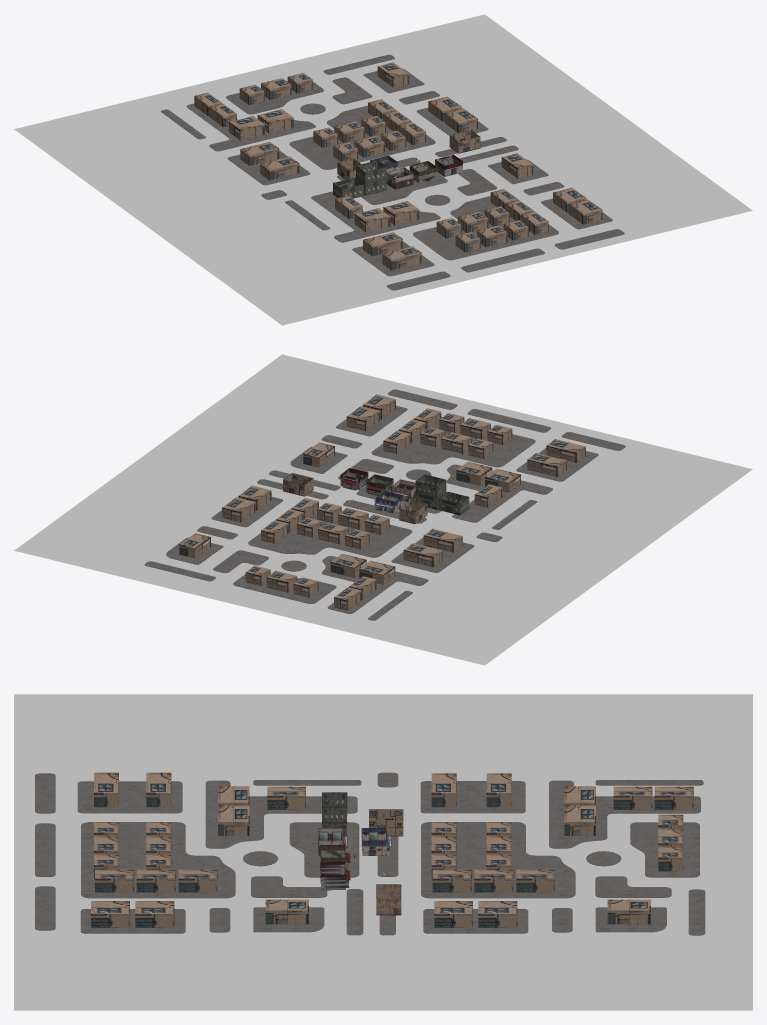
Rendered from map 1.fbx.
3 views of the same model, one above another, from view 1: azimuth 30°, elevation 25°; view 2: azimuth 150°, elevation 25°; view 3: azimuth 270°, elevation 25° (orthographic). The views are drawn at different scales.
Visible parts, largest first — view 1: streetPlane, layout1, pCube30.001, pCube70, pCube67, pCube68, pCube69, pCube37, pCube64, pCube60, pCube38, pCube57 (+5 smaller); view 2: streetPlane, layout1, pCube30.001, pCube69, pCube67, pCube68, pCube70, pCube59, pCube63, pCube58, pCube38, pCube64 (+7 smaller); view 3: streetPlane, layout1, pCube62, pCube61, pCube59, pCube58, pCube60, pCube57, pCube63, pCube38, pCube45, pCube66 (+20 smaller).
Part boxes in pixels (<box>): streetPlane: <box>14,14,752,325</box>; layout1: <box>161,54,624,290</box>; pCube30.001: <box>356,160,386,195</box>; pCube70: <box>382,246,421,270</box>; pCube67: <box>240,142,279,165</box>; pCube68: <box>260,156,299,180</box>; pCube69: <box>363,232,402,256</box>; pCube37: <box>354,208,390,232</box>; pCube64: <box>229,116,264,140</box>; pCube60: <box>569,199,602,224</box>; pCube38: <box>383,201,419,225</box>; pCube57: <box>444,108,477,132</box>; streetPlane: <box>14,354,752,665</box>; layout1: <box>144,389,625,620</box>; pCube30.001: <box>415,474,446,509</box>; pCube69: <box>527,453,566,476</box>; pCube67: <box>403,543,442,567</box>; pCube68: <box>423,529,462,552</box>; pCube70: <box>546,439,585,463</box>; pCube59: <box>346,406,379,431</box>; pCube63: <box>330,553,366,577</box>; pCube58: <box>222,497,255,522</box>; pCube38: <box>456,461,492,485</box>; pCube64: <box>359,560,395,584</box>; streetPlane: <box>14,694,752,1010</box>; layout1: <box>35,772,705,935</box>; pCube62: <box>607,899,650,924</box>; pCube61: <box>265,899,308,924</box>; pCube59: <box>135,901,174,927</box>; pCube58: <box>478,901,517,927</box>; pCube60: <box>91,901,129,927</box>; pCube57: <box>434,901,472,927</box>; pCube63: <box>564,805,595,835</box>; pCube38: <box>218,805,249,835</box>; pCube45: <box>432,869,471,892</box>; pCube66: <box>654,786,693,809</box>.
Size of the model in its own units: 9464 by 488 by 9338.
